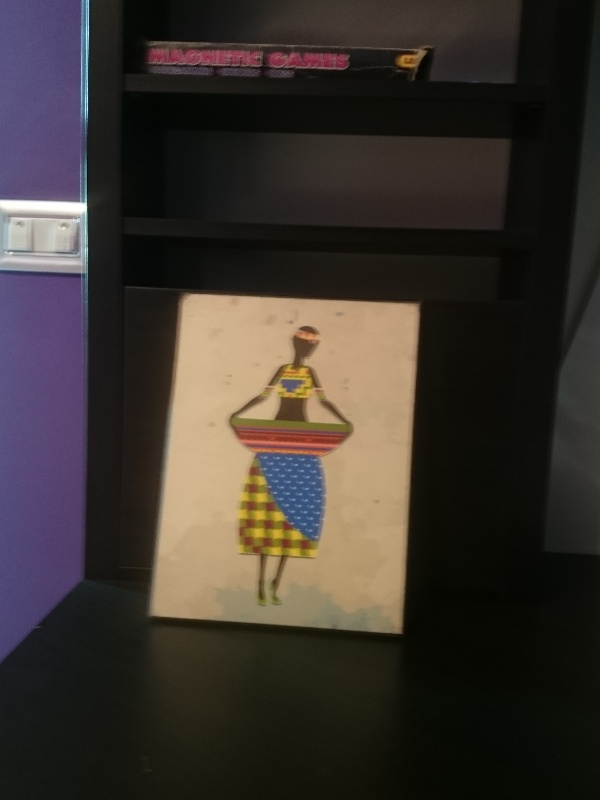my image: (155, 298, 419, 628)
